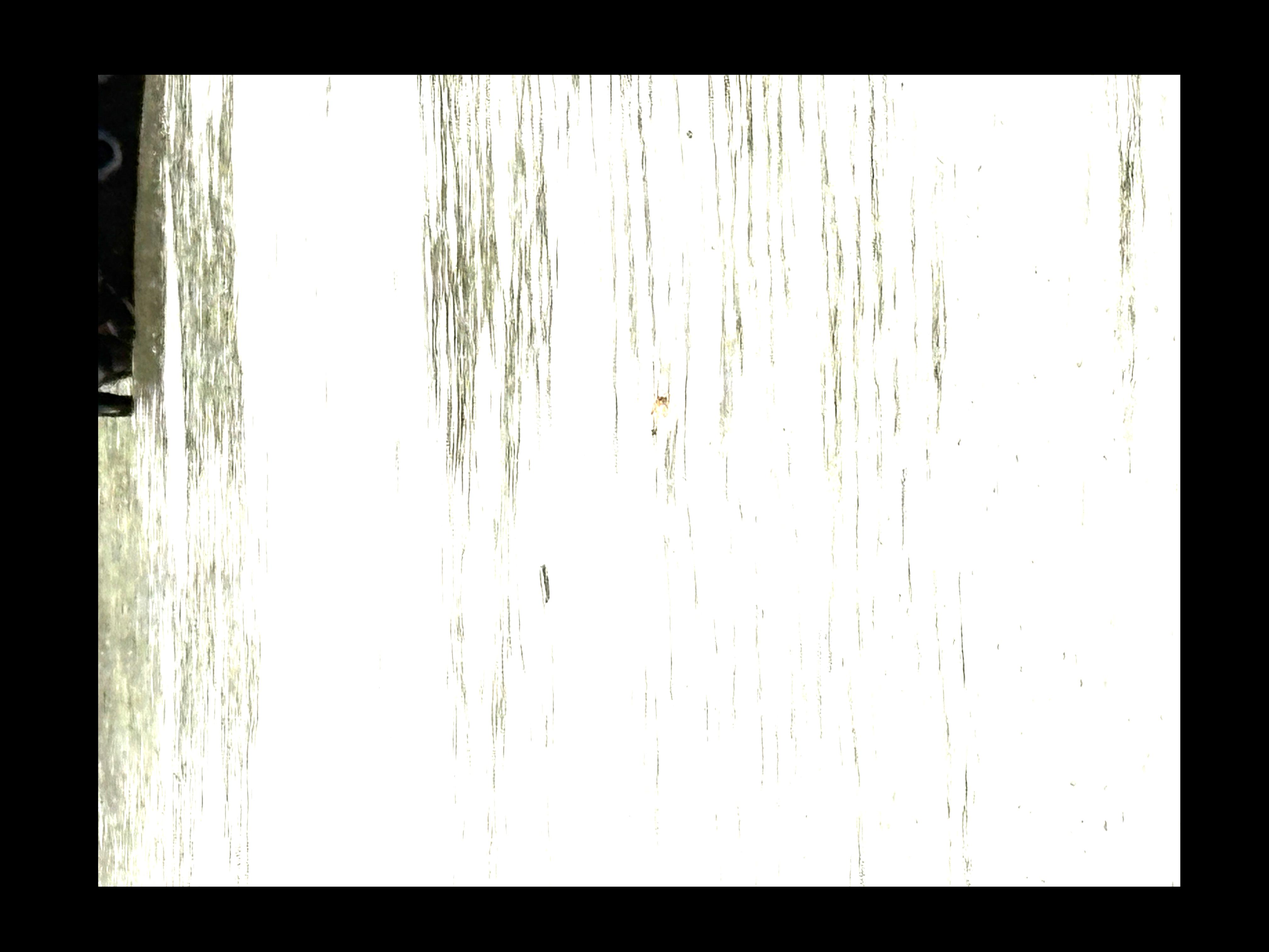Natural wastes: (677, 374, 706, 416), (565, 545, 589, 591)
